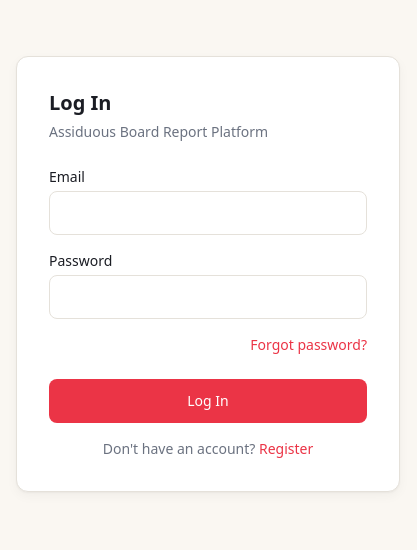
LoginView › shows a generic error message when login fails, without leaking the backend detail
Type "jane@example.com" into the field labelled "Email" at (208, 213), box [49,191,367,235]
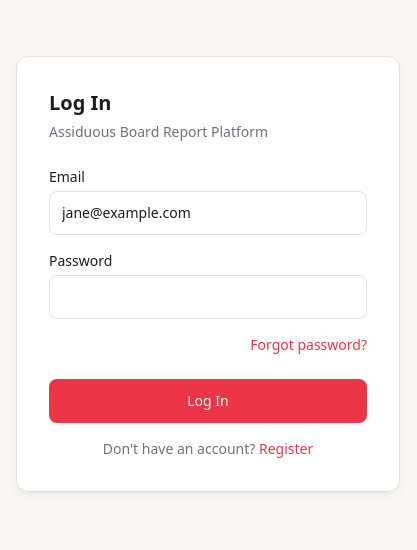
Type "wrong" into the password field labelled "Password" at (208, 297), box [49,275,367,319]
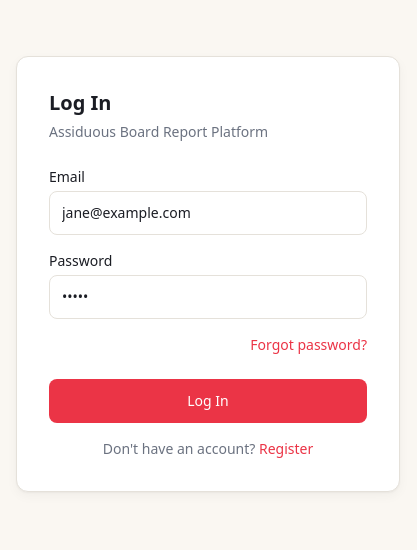
Click the button "Log In" at (208, 401), box [49,379,367,423]
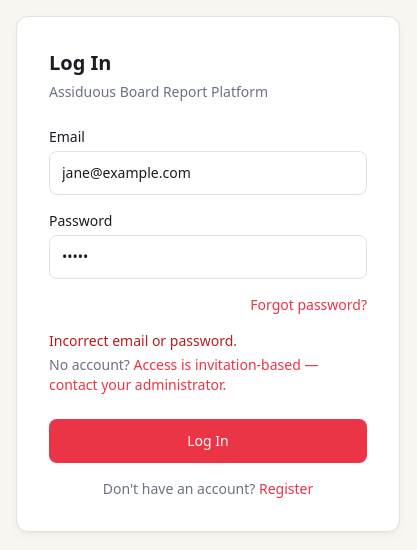
Expected: the text "Incorrect email or password." is shown, [49,331,237,350]
Expected: the link "Access is invitation-based — contact your administrator." is shown, [49,355,318,394]
